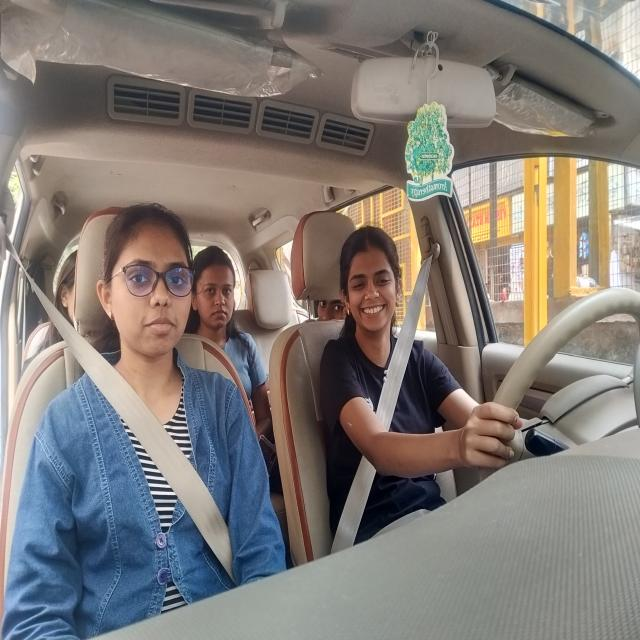person: (96, 202, 197, 361), (339, 224, 408, 334), (195, 231, 241, 333), (54, 250, 78, 334), (314, 297, 349, 325)
